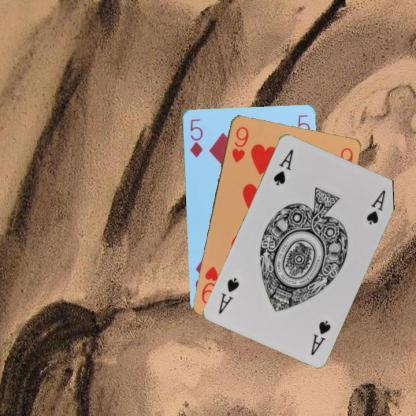5d: (187, 116, 204, 158)
9h: (228, 124, 249, 164)
As: (270, 146, 295, 187), (308, 317, 332, 356)
